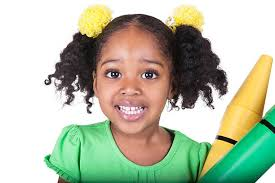person: (95, 16, 174, 137)
